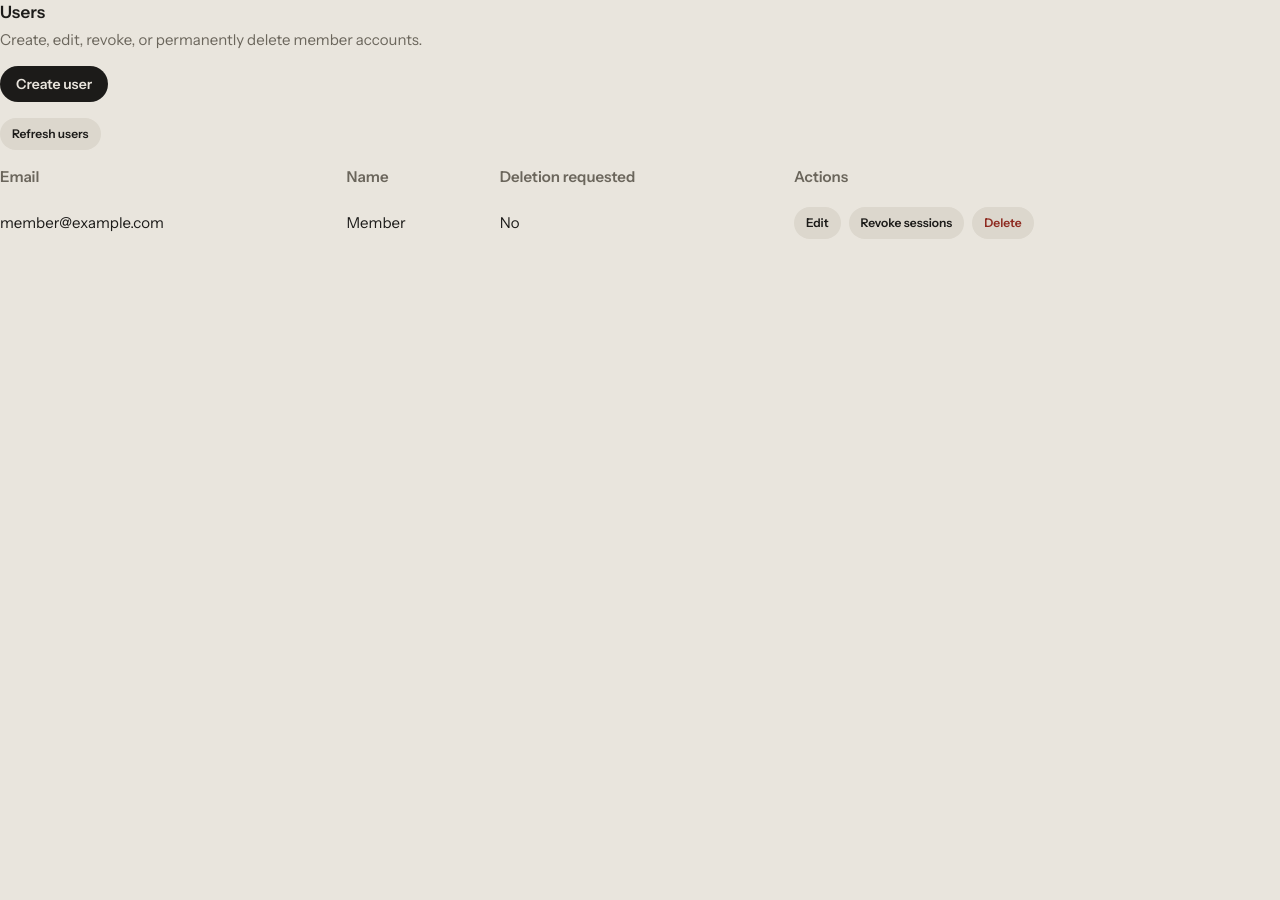
Test: AdminUsersSection CRUD safety › 013-FR-010 013-SC-007 names delete target and restores focus after Escape
expect the text "member@example.com" is shown: met, box top-left (0, 195), bottom-right (346, 251)
Click the button with aria-label "Delete user_1 (member@example.com)": (1003, 223) top-left (972, 207), bottom-right (1034, 239)
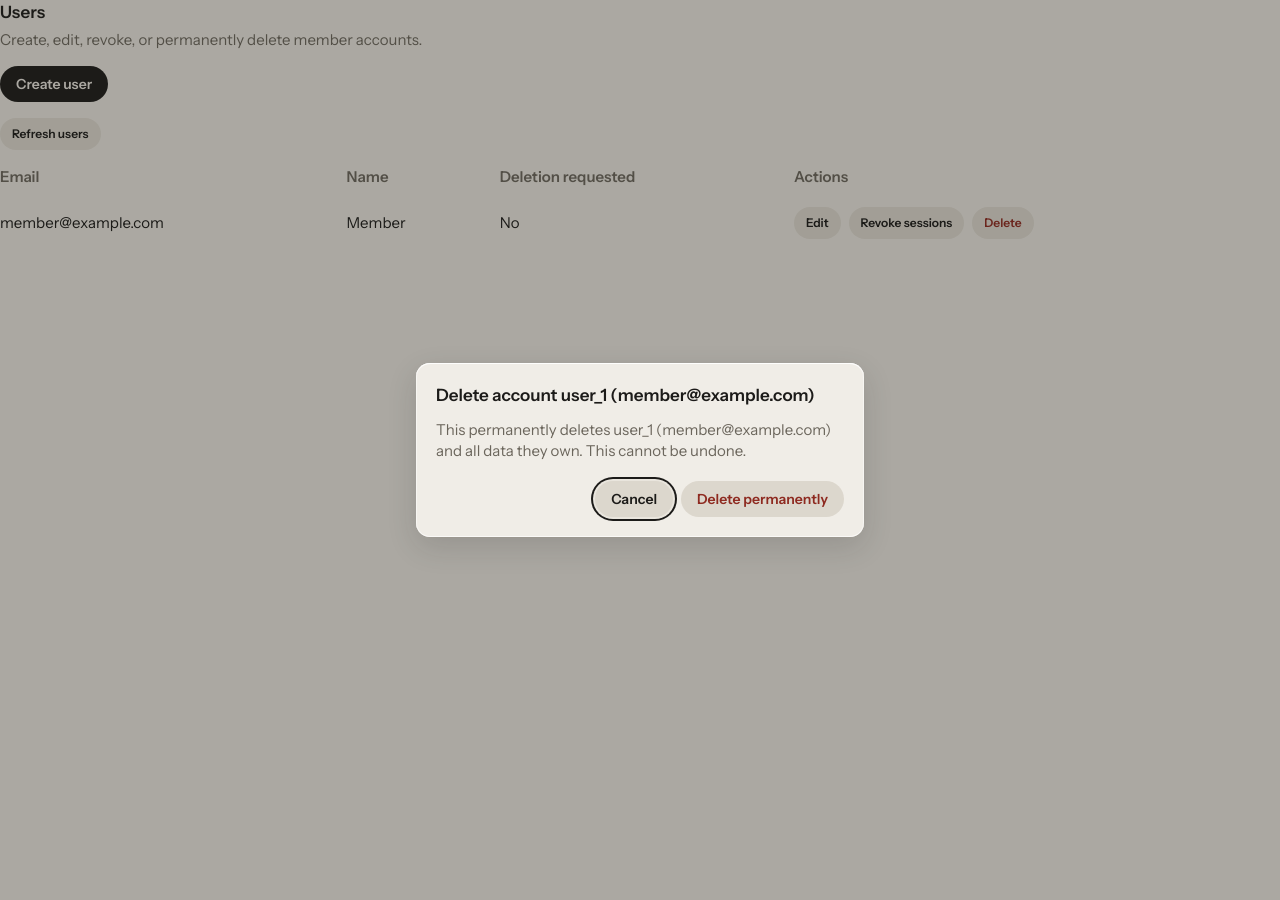
expect the dialog "Delete account user_1 (member@example.com)" is shown: met, box top-left (436, 385), bottom-right (815, 405)
Press Escape
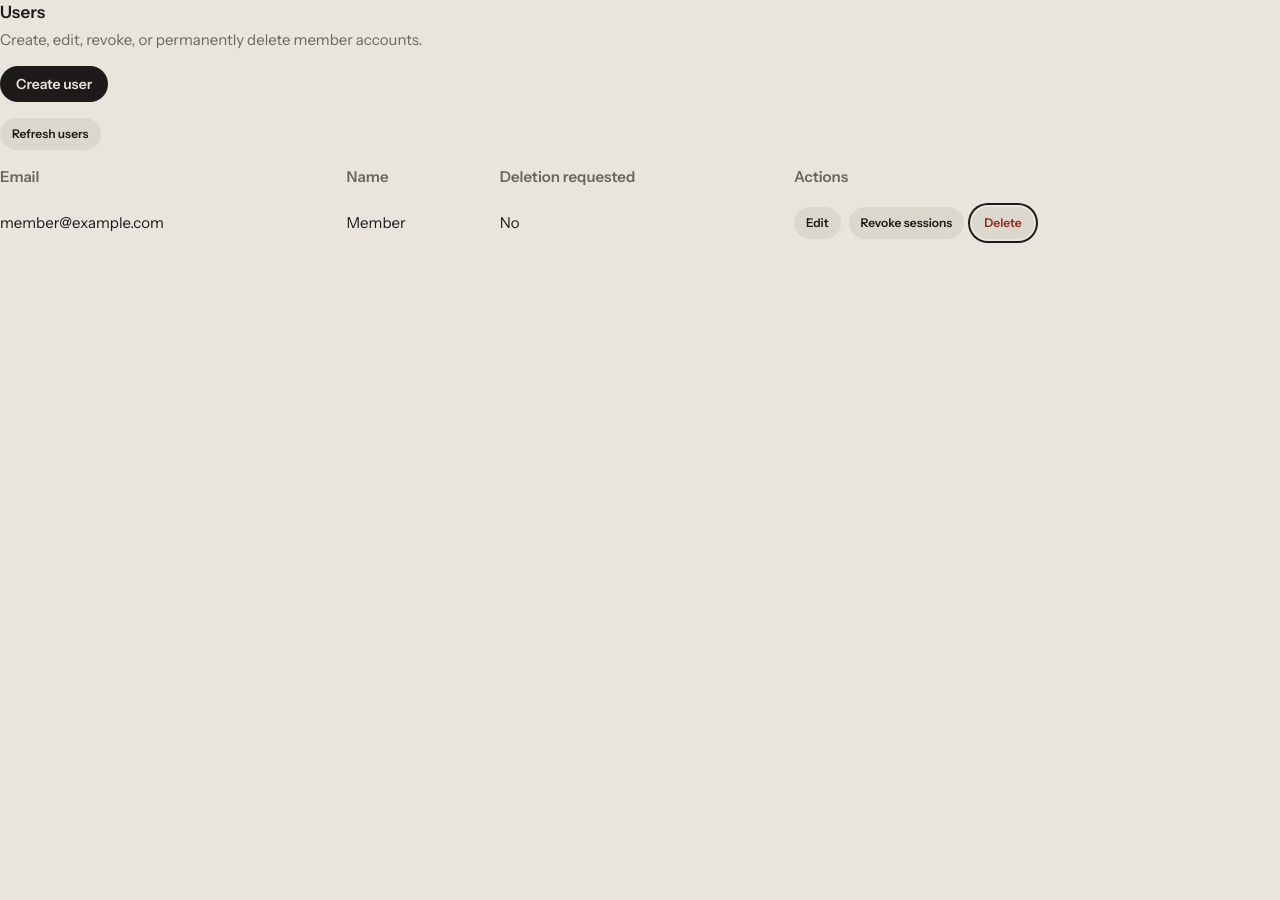
expect the dialog is gone: met
